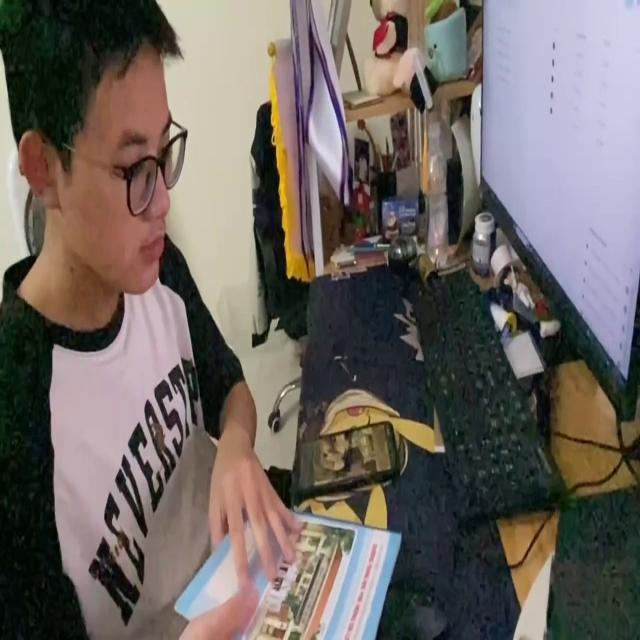book: (174, 508, 403, 640)
laptop: (475, 0, 640, 430)
phone: (294, 417, 401, 495)
student: (0, 0, 306, 640)
